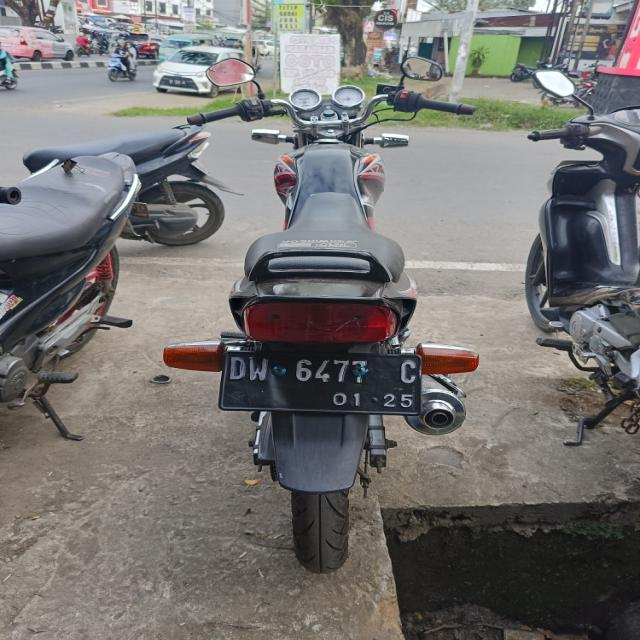plates: (222, 338, 418, 414)
